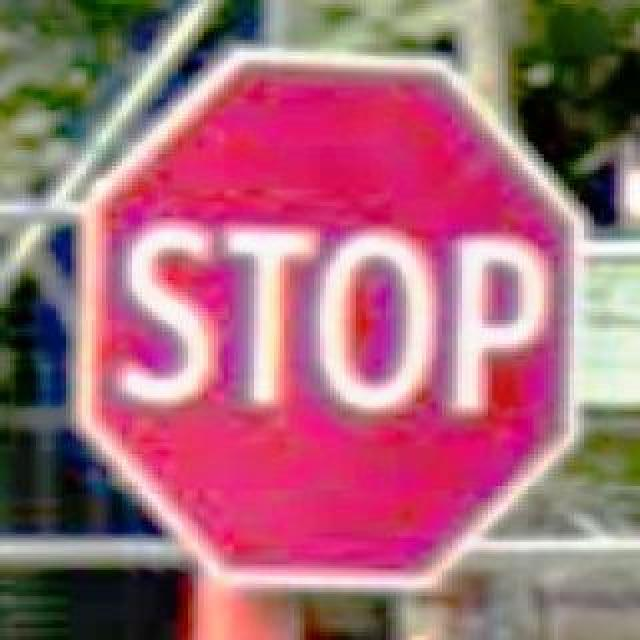stop: (74, 42, 582, 594)
